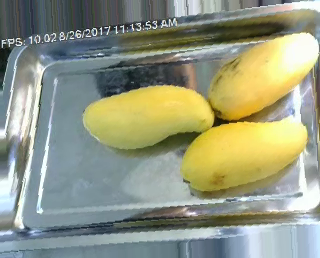Mango: (209, 31, 319, 120), (180, 119, 309, 189), (81, 83, 213, 149)
